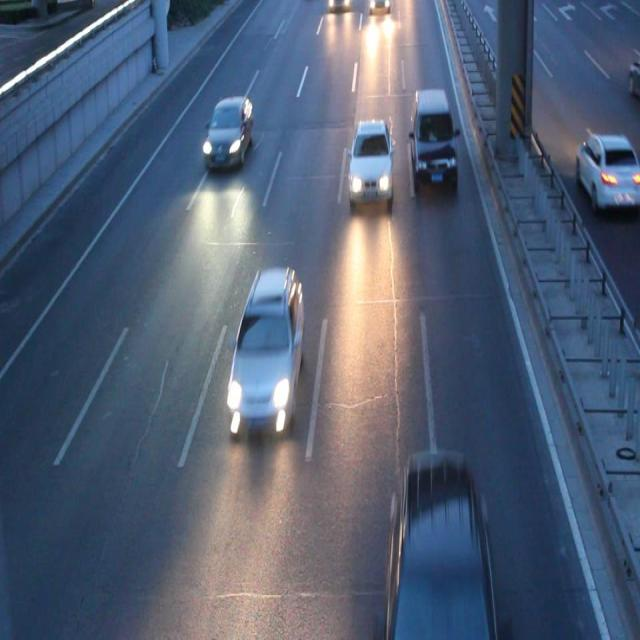car: (388, 458, 494, 640), (232, 266, 303, 421), (574, 132, 640, 206), (348, 122, 392, 198), (205, 96, 252, 162)
truck: (410, 90, 456, 180)
